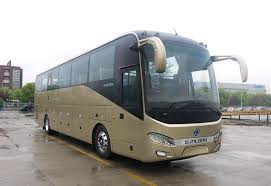bus: (33, 29, 223, 162)
